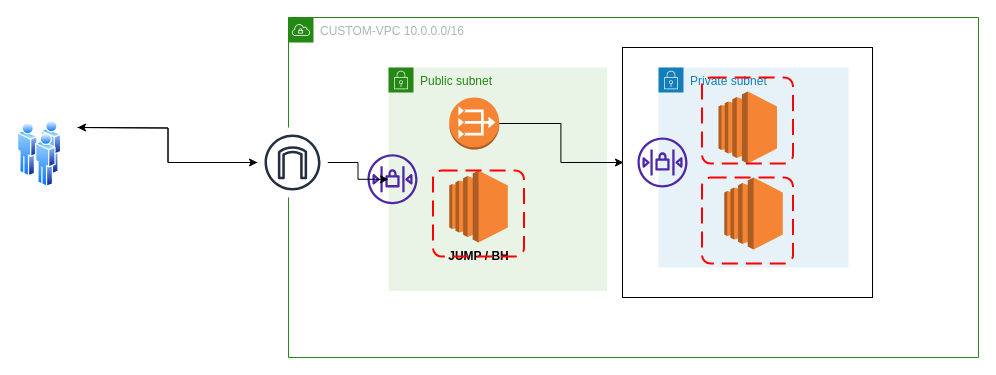
Image size: 996x375. Some labels were removed from this diagram. The centre of each missing label's shape, as x and y in pixels:
"Internet gateway" belongs at (x=292, y=162).
"NAT INSTANCE" belongs at (x=473, y=123).
